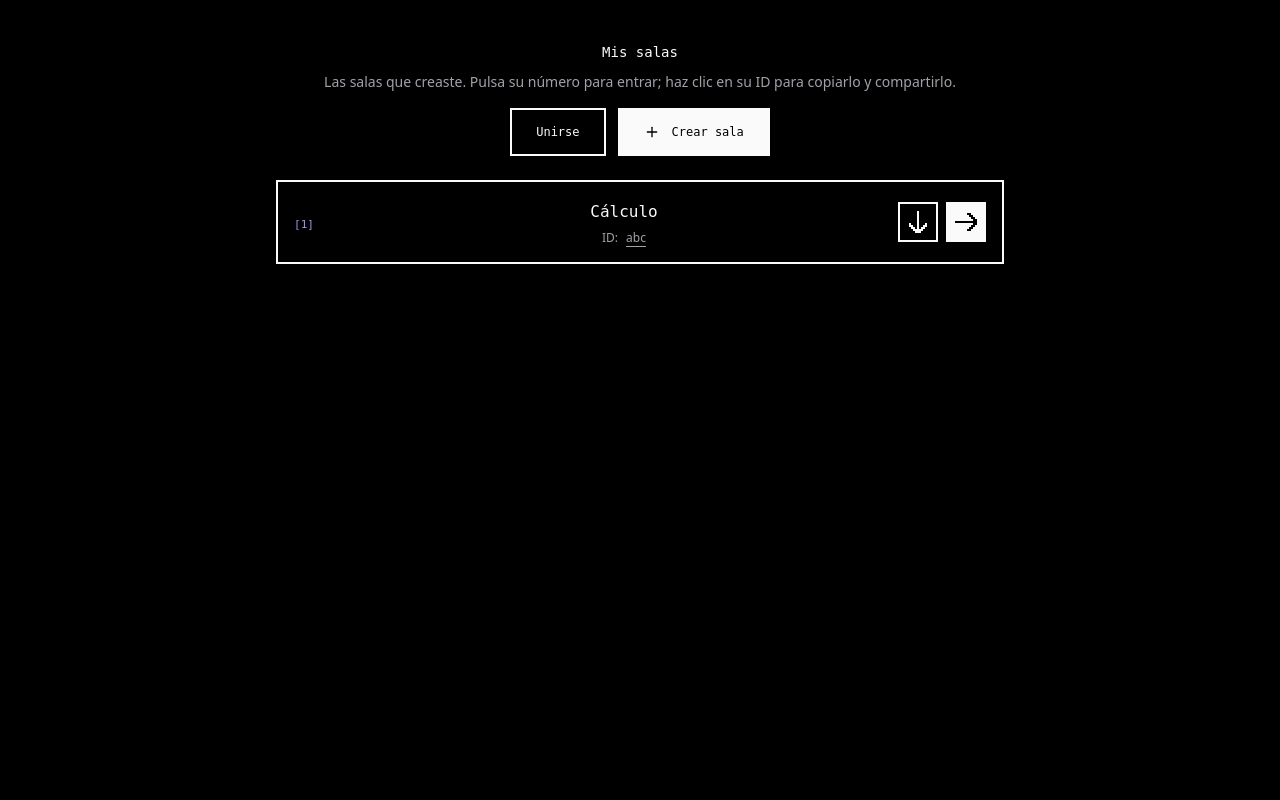
Test: Editar y eliminar desde «Mis salas» (US-07) › editar guarda el nombre nuevo, lo muestra y lo confirma
Click the button named "detalles de la sala" at (918, 222), box [898,202,938,242]
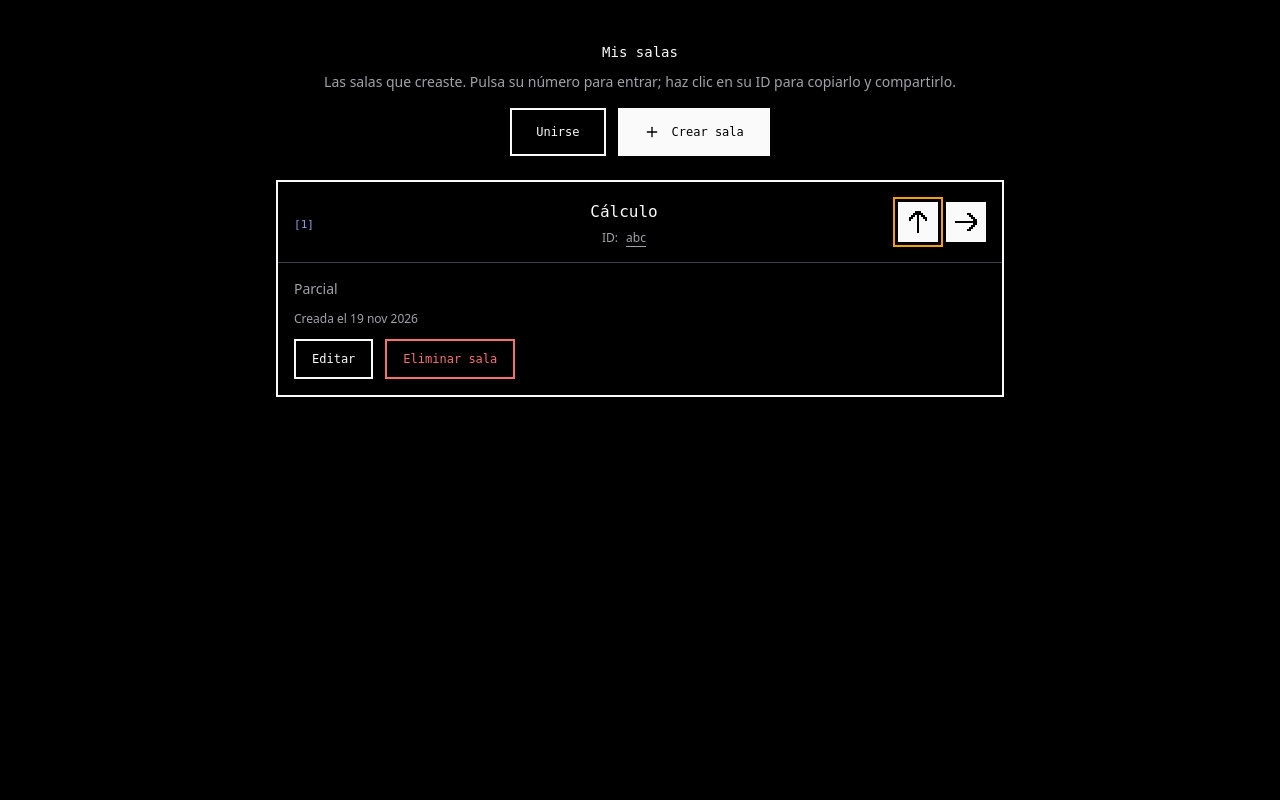
Click the button with aria-label "Editar la sala Cálculo" at (334, 359), box [294,339,373,379]
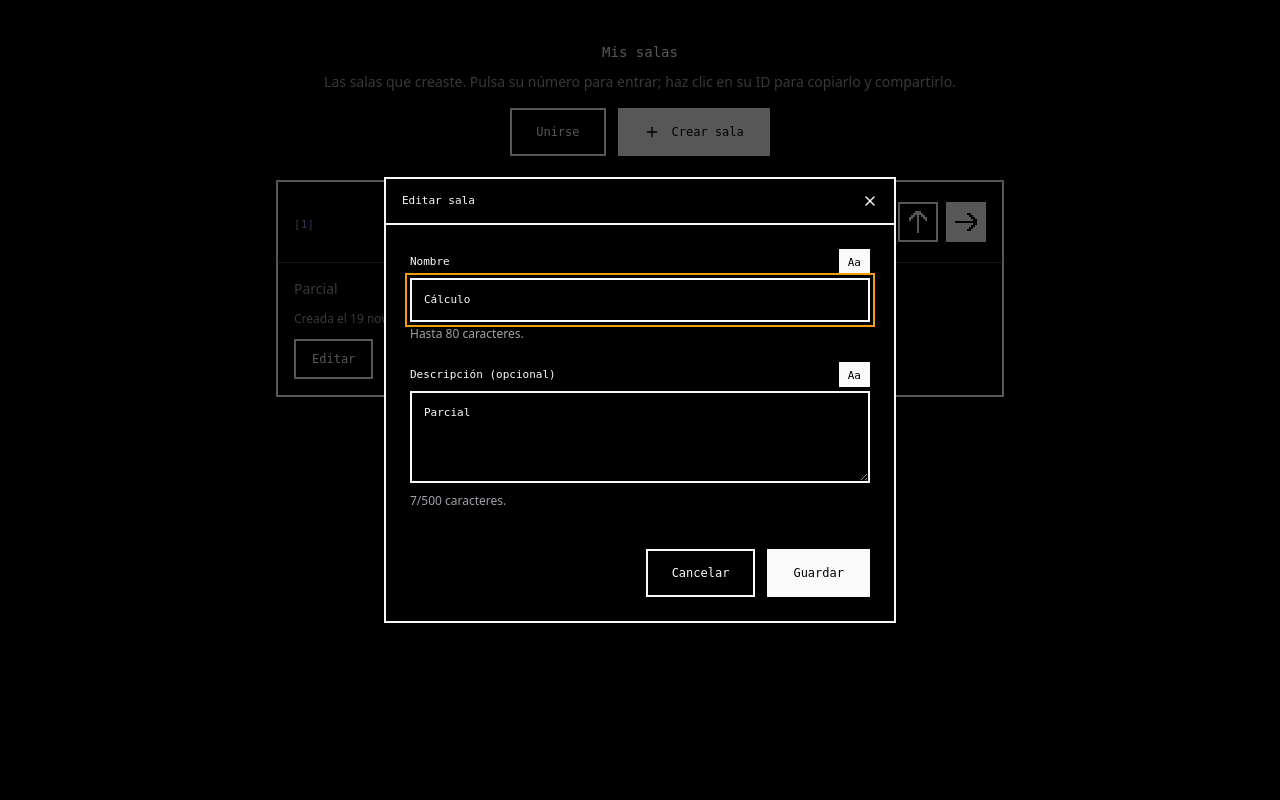
Check: the field labelled "Nombre" holds "Cálculo"
Replace the text in the field labelled "Nombre" with "Cálculo II" at (640, 300), box [410,278,870,322]
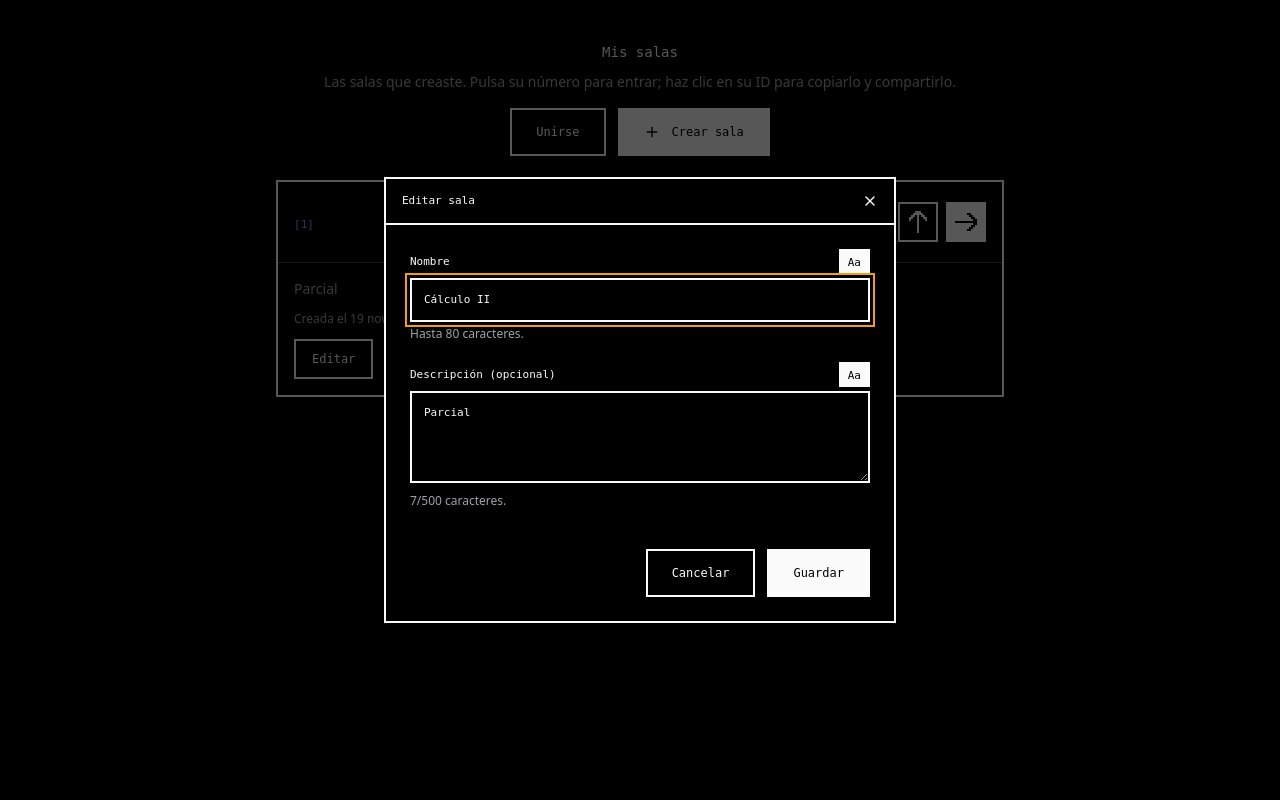
Click the button "Guardar" at (819, 573), box [767,549,870,597]
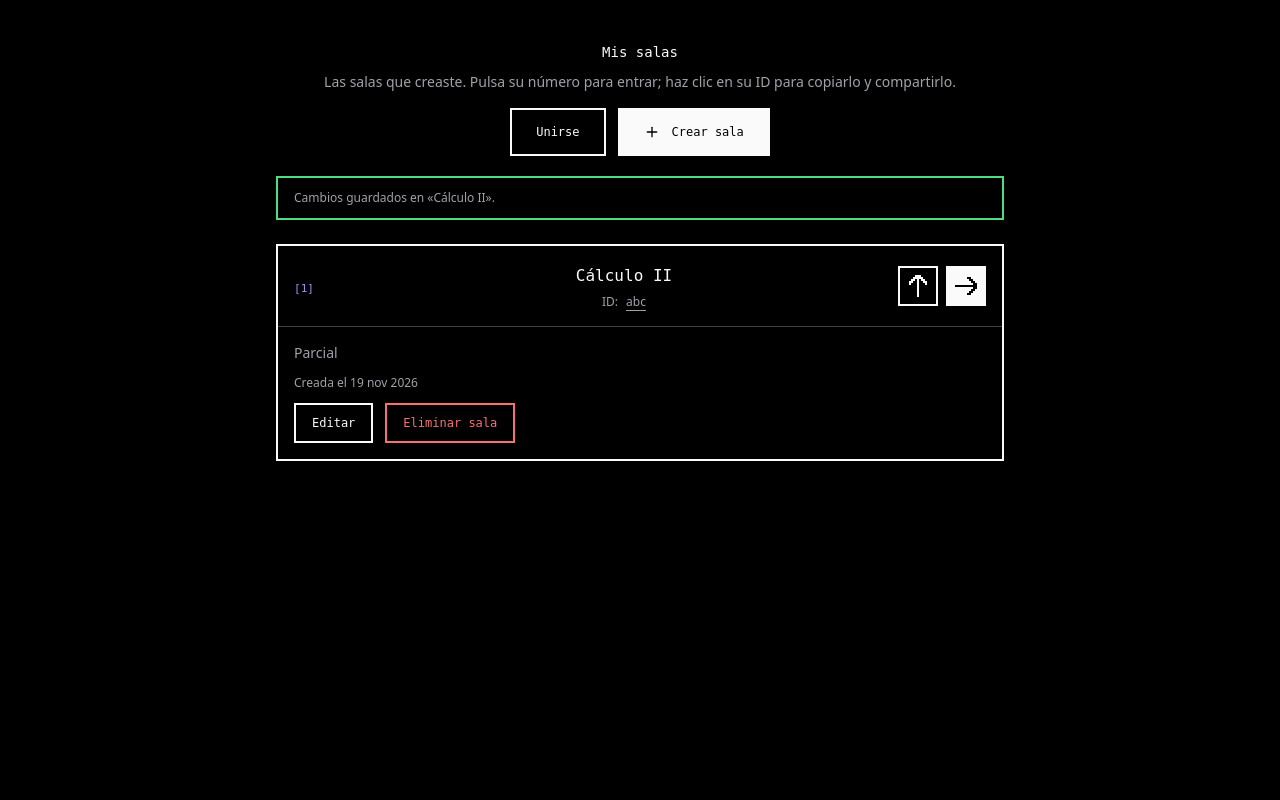
Check: the heading named "Cálculo II" is shown, box [575,265,672,285]
Check: the text "Cambios guardados en «Cálculo II»." is shown, box [294,189,495,206]
